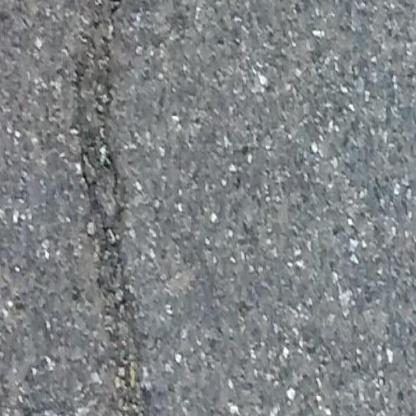Cracks: (73, 0, 160, 416)
